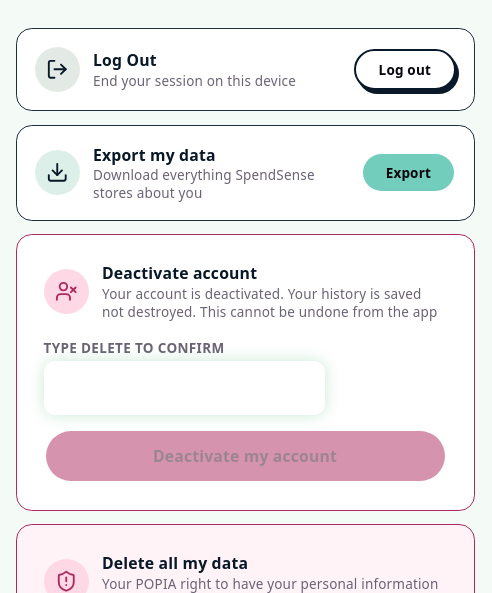
it: SettingsAccountPage › shows error feedback and does not sign out when deactivation fails
The image size is (492, 593).
Type "DELETE" into the field labelled "Type DELETE to confirm". click: (184, 388)
box: [44, 361, 324, 415]
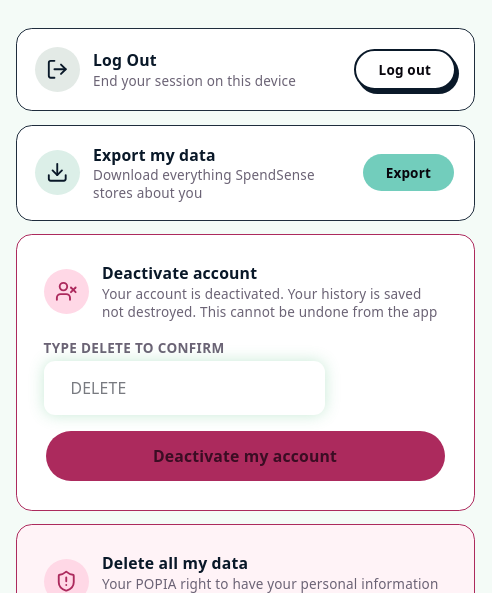
Click the button "Deactivate my account". click: (245, 456)
box: [44, 429, 446, 483]
(page scrolled)
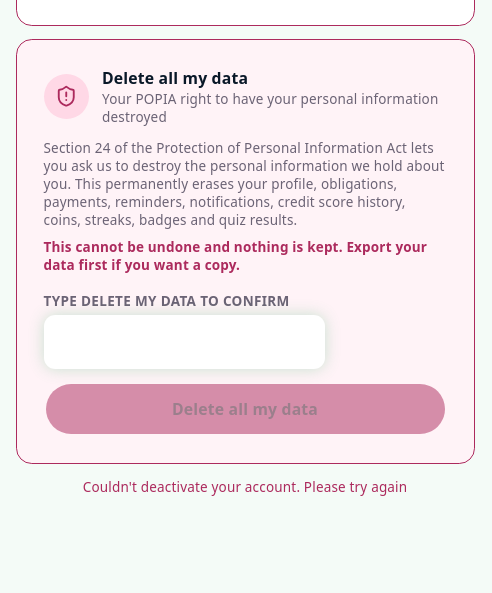
Expected: the text "Couldn't deactivate your account. Please try again" is shown, [83, 478, 407, 496]
